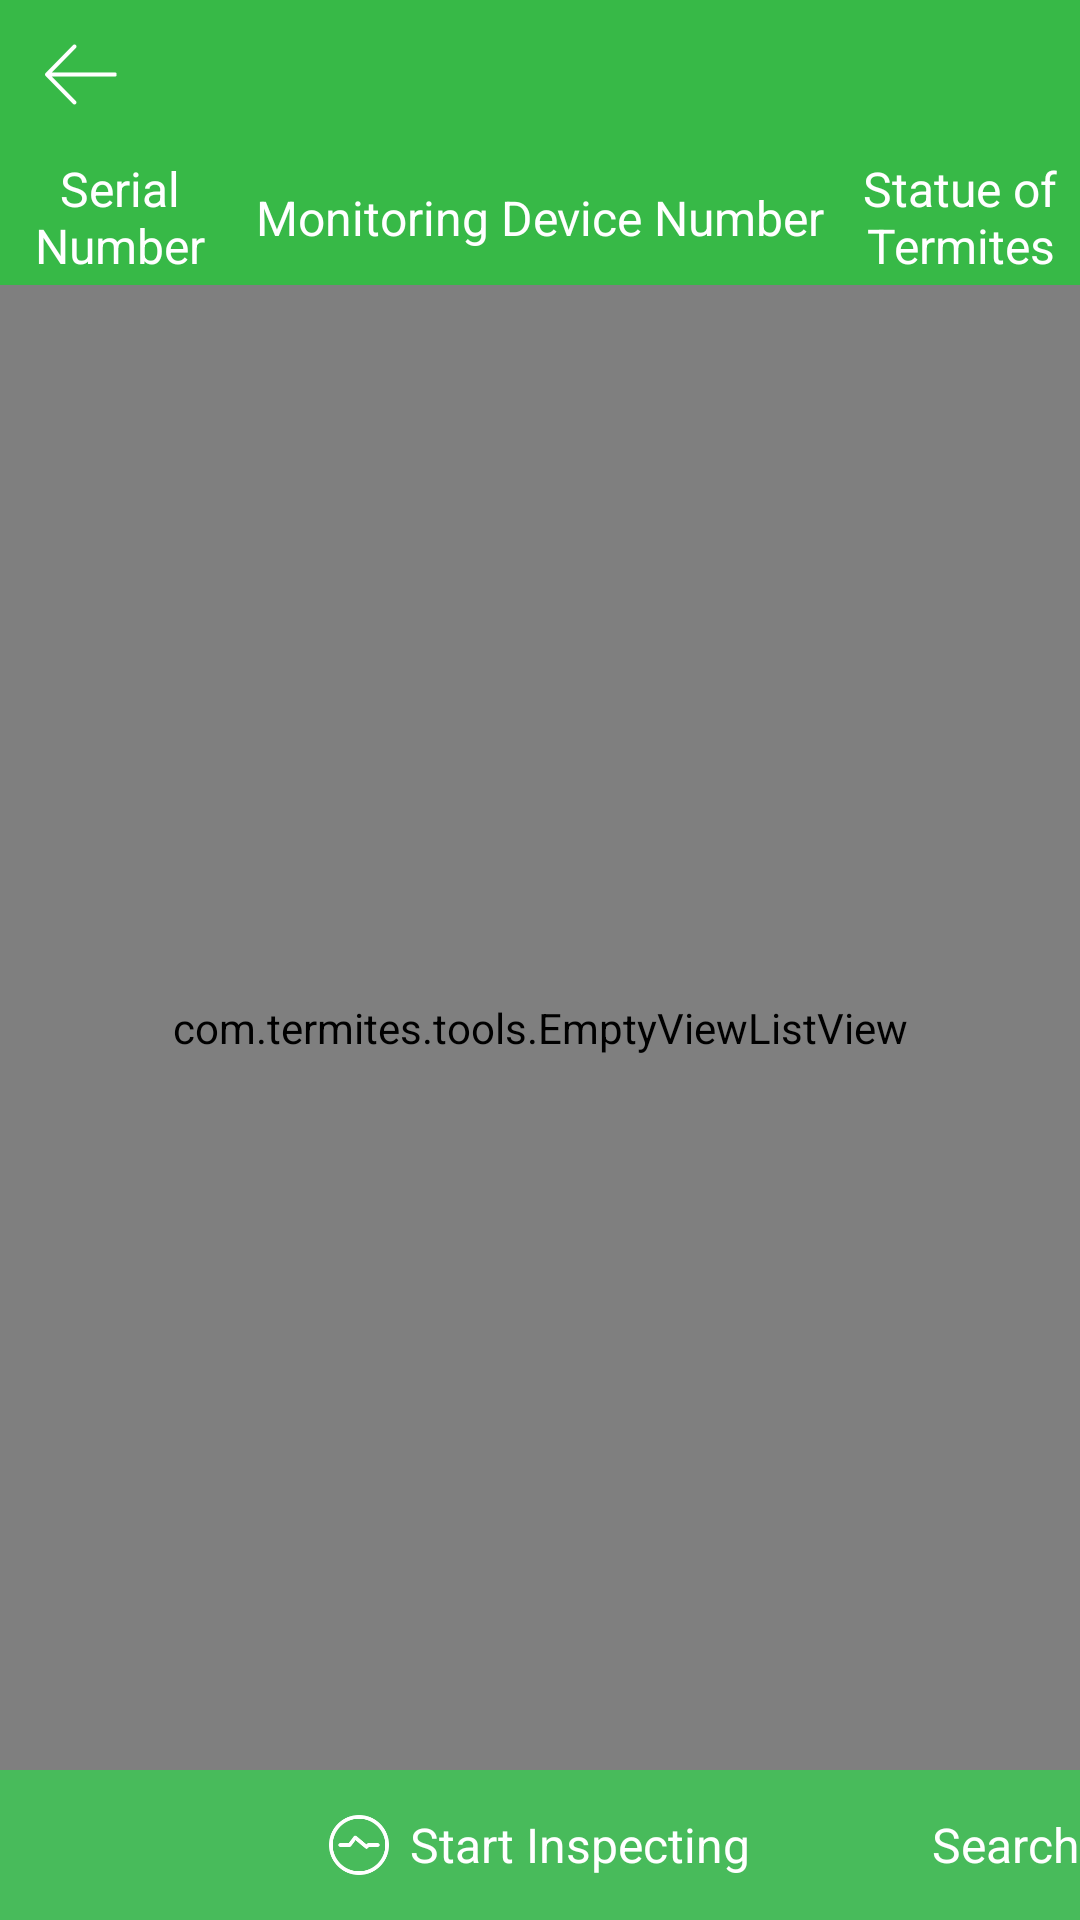

Icon click points for this 1080px x 1920px phone screenshot, format (x=x, y=y):
start inspection: (x=359, y=1845)
